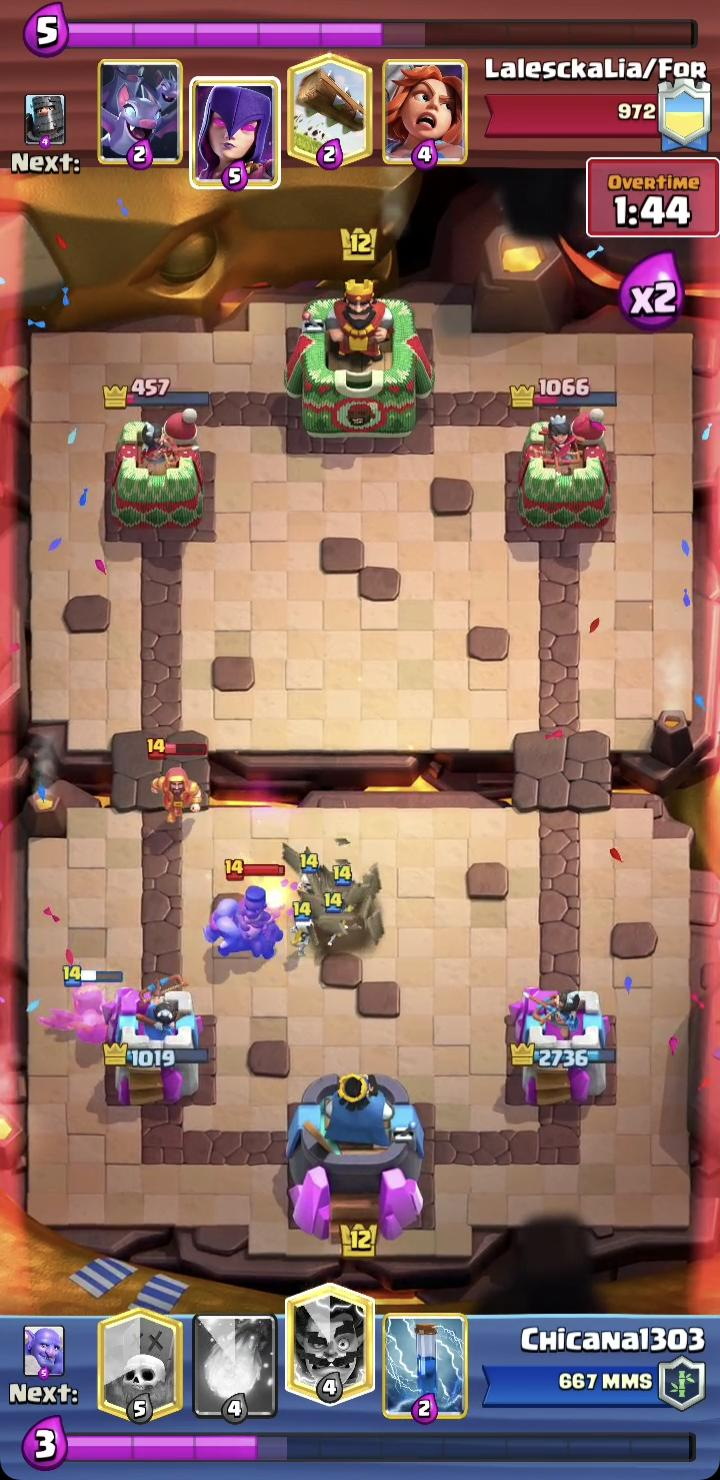ally_executioner: (46, 964, 124, 1051)
ally_skeleton: (322, 890, 349, 947), (290, 901, 313, 954), (297, 851, 320, 901)
enemy_ramrider: (204, 858, 285, 959)
enemy_wizard: (145, 736, 209, 823)
